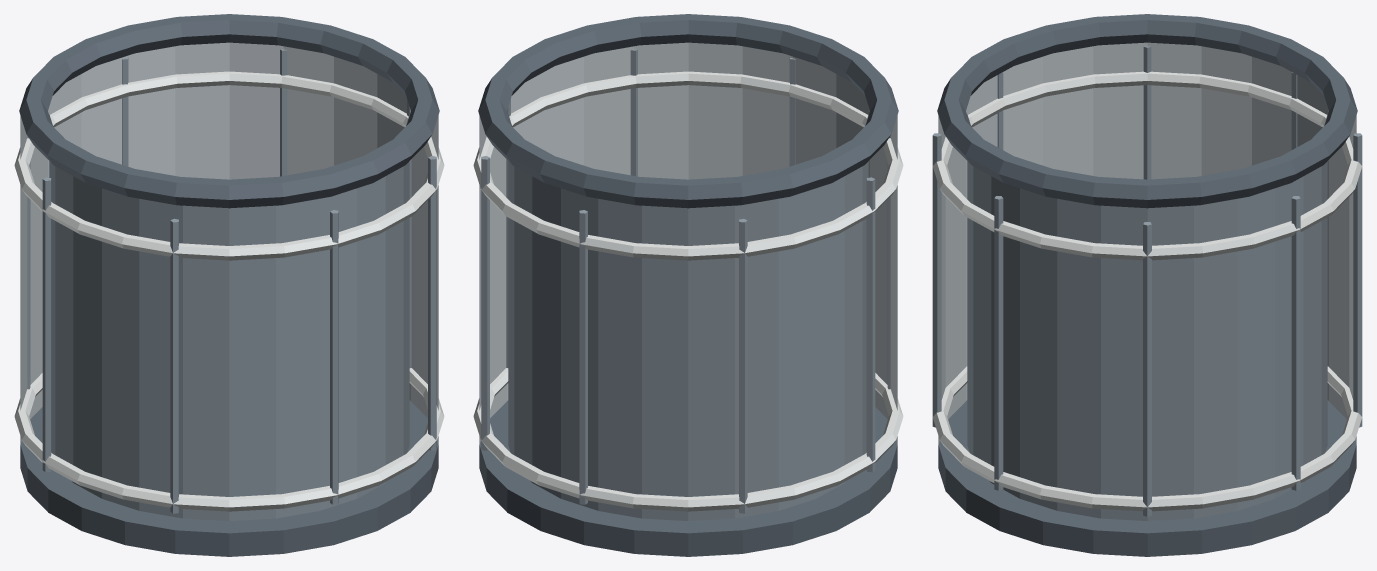
Rendered from capsula_cuerpo.glb.
3 views of the same model, side by side, from view 1: azimuth 30°, elevation 25°; view 2: azimuth 150°, elevation 25°; view 3: azimuth 270°, elevation 25° (orthographic).
Parts seen in each view (by area): view 1: capsula_cuerpo; view 2: capsula_cuerpo; view 3: capsula_cuerpo.
Boxes of the visible parts, left/top/right/bottom form: capsula_cuerpo: left=14, top=14, right=444, bottom=556; capsula_cuerpo: left=473, top=14, right=903, bottom=556; capsula_cuerpo: left=932, top=14, right=1362, bottom=556.
Size of the model in its own units: 1.65 by 1.56 by 1.65.
